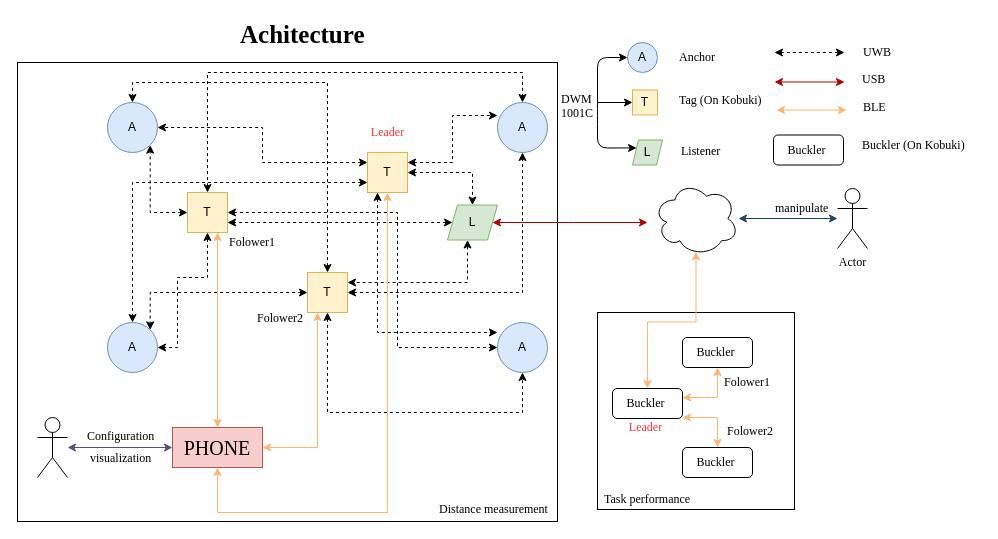
The diagram is 998 pixels wide and 539 high, and some of its shapes have lost their labels. Each missing label, with the centre of its shape:
"Audience" goes at point (52, 447).
"PC" goes at point (695, 218).
